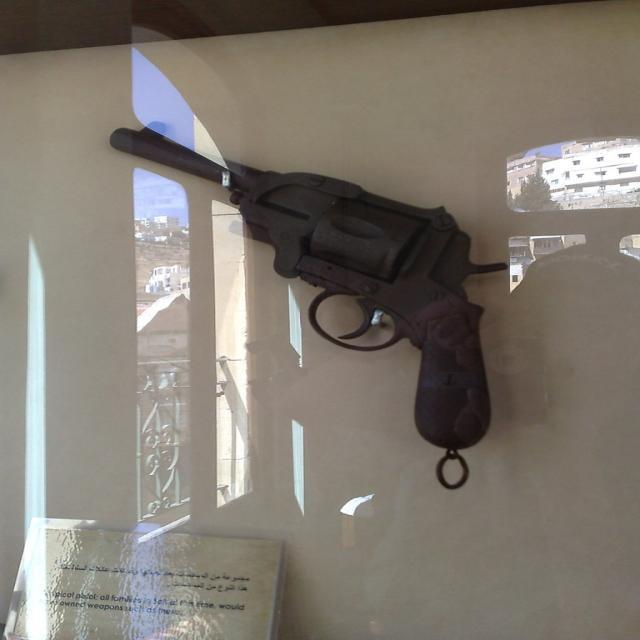Gun: (111, 130, 506, 488)
